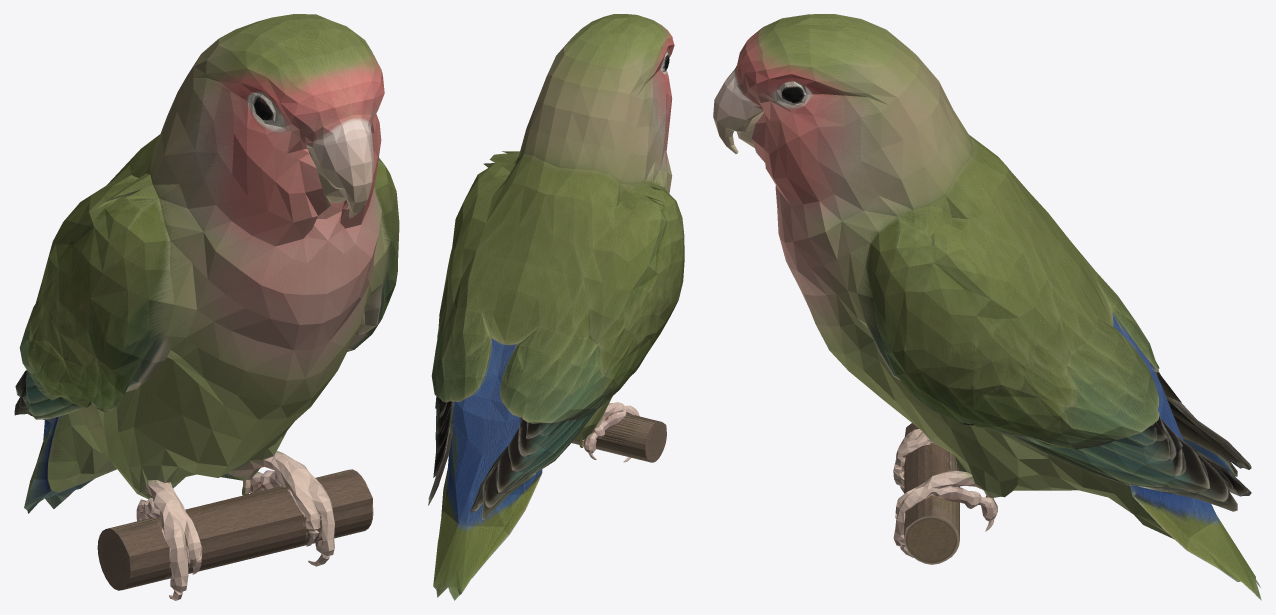
Rendered from agapornis-roseicollis-3d.glb.
3 views of the same model, side by side, from view 1: azimuth 30°, elevation 25°; view 2: azimuth 150°, elevation 25°; view 3: azimuth 270°, elevation 25° (orthographic). The views are drawn at different scales.
Size of the model in its own units: 0.4526 by 0.9478 by 0.8237.
1 material, 1 textured.
